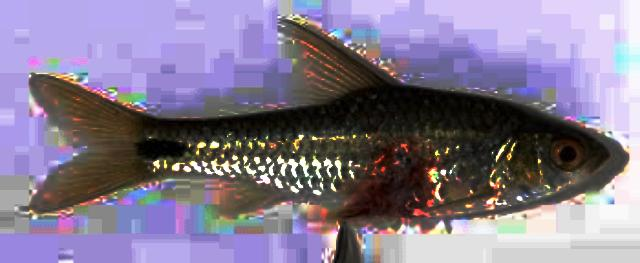Epizootic Ulcerative Syndrome -EUS-: (33, 22, 624, 218), (31, 24, 622, 219)
